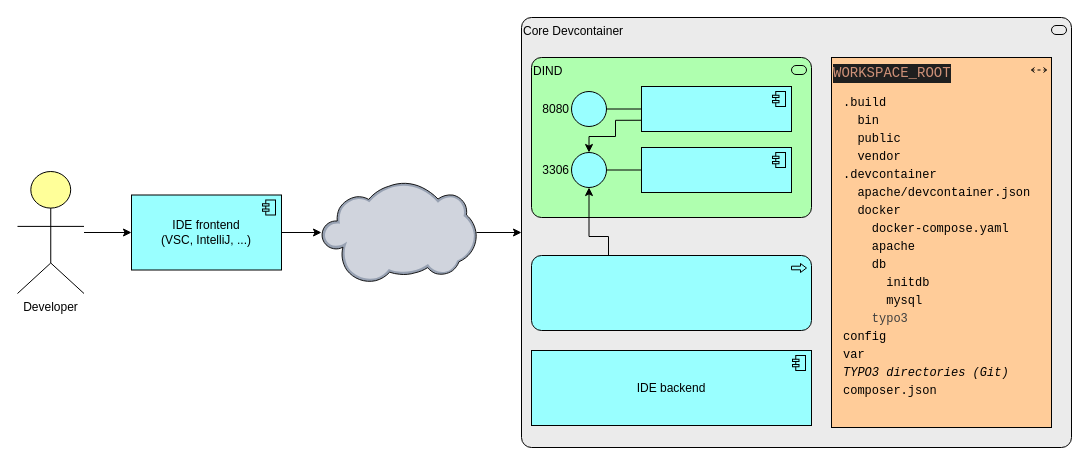
Some shapes in this 1089 by 465 pixel diagram are drawn without their labels. The centre of each missing label's shape, as x and y in pixels:
Adminer: (x=716, y=109)
Apache (mod_php): (x=671, y=292)
MySQL: (x=716, y=169)
Port forwarding (80, 2222, 3306, ...): (x=398, y=232)
